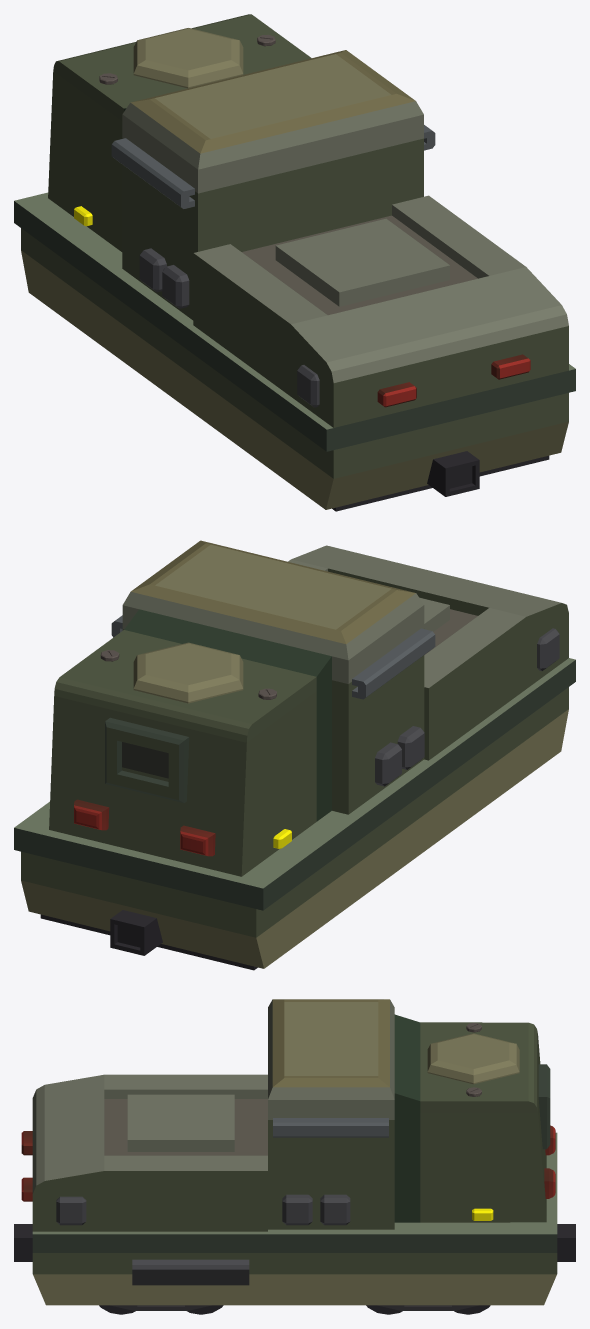
The model's file is mesh_com_0.fbx.
3 views of the same model, one above another, from view 1: azimuth 30°, elevation 25°; view 2: azimuth 150°, elevation 25°; view 3: azimuth 270°, elevation 25° (orthographic). The views are drawn at different scales.
Parts seen in each view (by area): view 1: com_0_base; view 2: com_0_base; view 3: com_0_base.
Boxes of the visible parts, x1=… form: com_0_base: x1=14, y1=14, x2=575, y2=511; com_0_base: x1=14, y1=540, x2=575, y2=970; com_0_base: x1=14, y1=999, x2=575, y2=1314.
Bounding box in the file's own units: 3.68 × 3.96 × 8.39.
